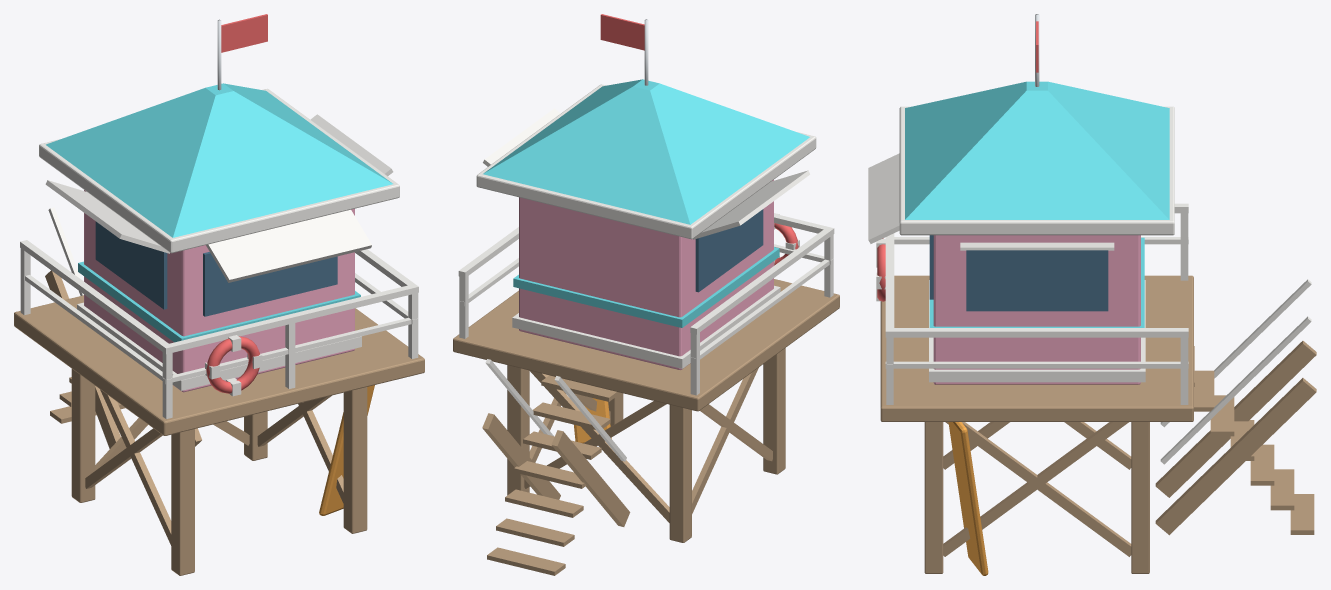
File: prop_lifeguard_tower.glb
3 renders of one model, left to right at view 1: azimuth 30°, elevation 25°; view 2: azimuth 150°, elevation 25°; view 3: azimuth 270°, elevation 25°, orthographic. The views are drawn at different scales.
Visible parts, largest first — view 1: Stilt_-1.22_-1.22; view 2: Stilt_-1.22_-1.22; view 3: Stilt_-1.22_-1.22.
Boxes of the visible parts, x1,y1,x2,y2 form: Stilt_-1.22_-1.22: (14, 14, 424, 575); Stilt_-1.22_-1.22: (453, 14, 839, 575); Stilt_-1.22_-1.22: (868, 14, 1316, 575).
Size of the model in its own units: 3.87 by 6.67 by 5.3.
